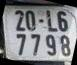-: (39, 19, 44, 24)
0: (25, 10, 36, 32)
2: (14, 9, 26, 32)
6: (58, 10, 69, 32)
7: (15, 34, 27, 56), (31, 34, 42, 56)
8: (60, 34, 71, 57)
9: (45, 34, 57, 56)
L: (46, 9, 58, 32)
